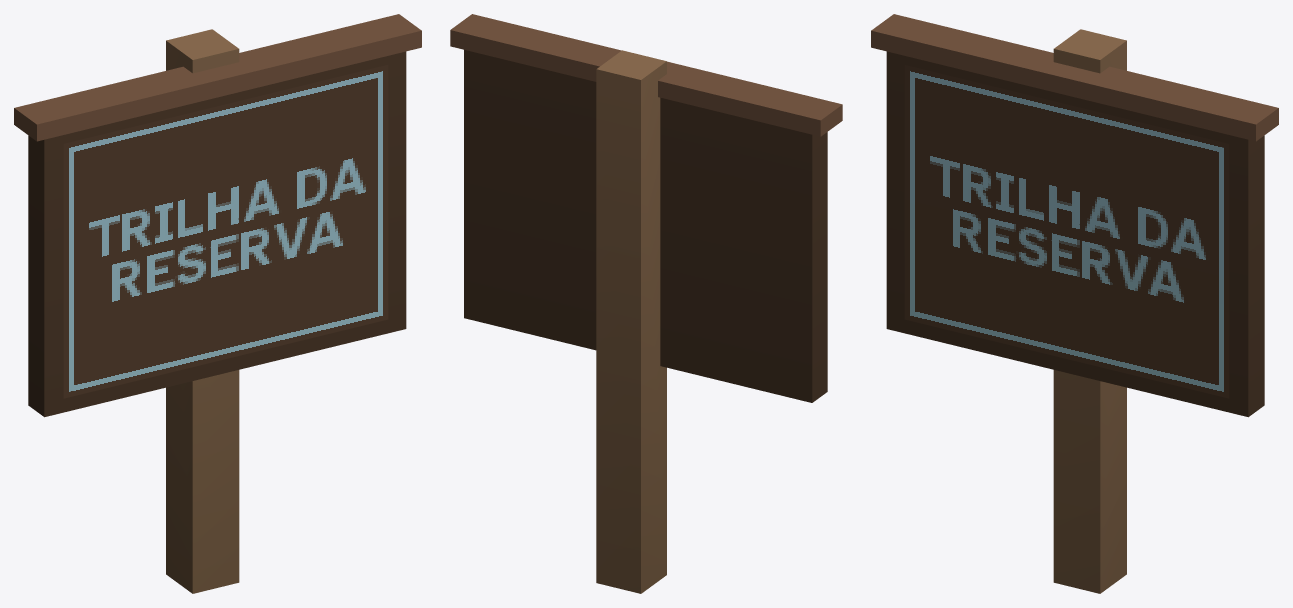
The model's file is custom-placa-trilha-da-reserva.glb.
3 renders of one model, left to right at view 1: azimuth 30°, elevation 25°; view 2: azimuth 150°, elevation 25°; view 3: azimuth 330°, elevation 25°, orthographic. The views are drawn at different scales.
Parts seen in each view (by area): view 1: placa-trilha-da-reserva; view 2: placa-trilha-da-reserva; view 3: placa-trilha-da-reserva.
Boxes of the visible parts, x1=… form: placa-trilha-da-reserva: x1=14, y1=14, x2=421, y2=593; placa-trilha-da-reserva: x1=450, y1=14, x2=842, y2=593; placa-trilha-da-reserva: x1=871, y1=14, x2=1278, y2=593.
Size of the model in its own units: 1.66 by 2.2 by 0.3.
Materials: 2 (1 with a texture image).
